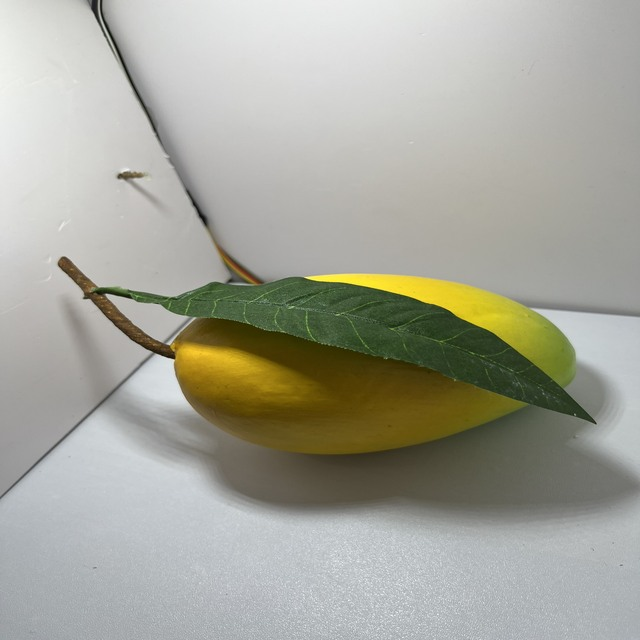Xoai: (166, 268, 590, 463)
